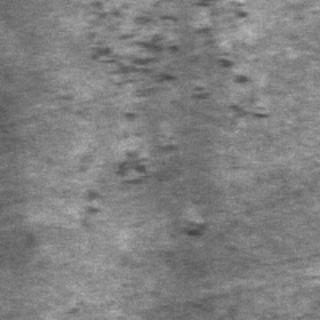rolled pit: (75, 0, 249, 106), (72, 140, 210, 238)
